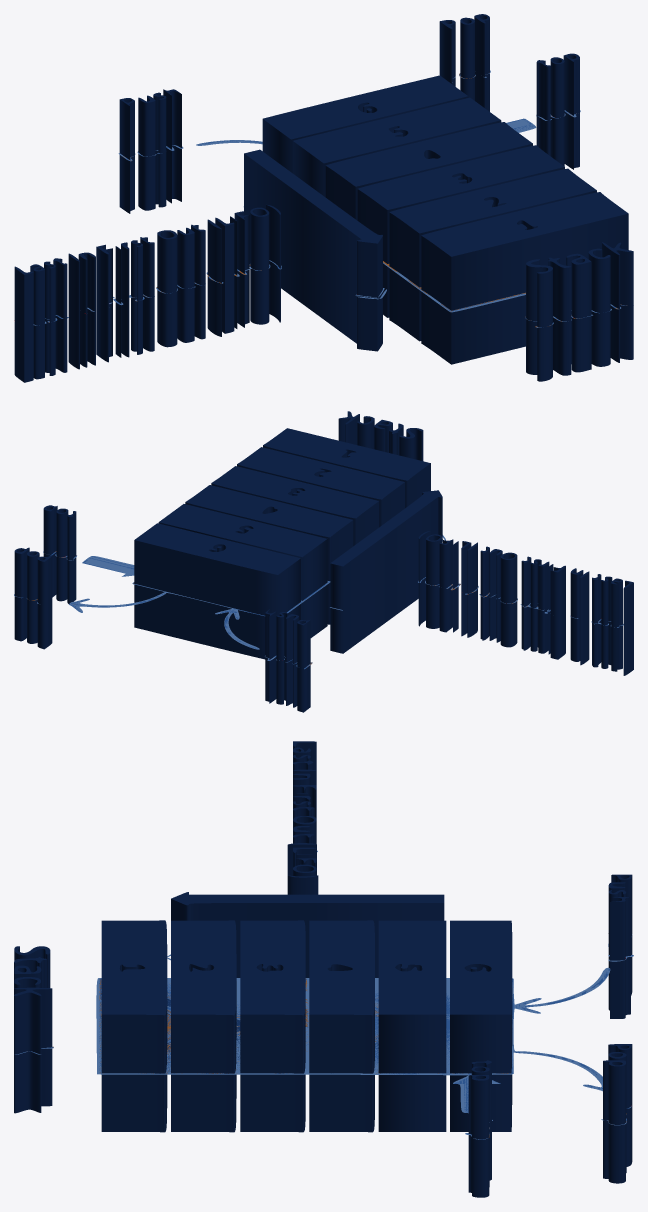
File: stack.obj
3 renders of one model, top to bottom at view 1: azimuth 30°, elevation 25°; view 2: azimuth 150°, elevation 25°; view 3: azimuth 270°, elevation 25°, orthographic. The views are drawn at different scales.
Parts seen in each view (by area): view 1: path96, path104; view 2: path96, path104, path102; view 3: path96, path104, path102.
Boxes of the visible parts, x1=… form: path96: x1=14, y1=14, x2=633, y2=382; path104: x1=33, y1=70, x2=626, y2=327; path96: x1=14, y1=411, x2=633, y2=712; path104: x1=14, y1=535, x2=623, y2=668; path102: x1=14, y1=551, x2=618, y2=668; path96: x1=14, y1=741, x2=632, y2=1197; path104: x1=15, y1=850, x2=633, y2=1139; path102: x1=17, y1=934, x2=633, y2=1139.
Size of the model in its own units: 0.1245 by 0.02 by 0.0959.
